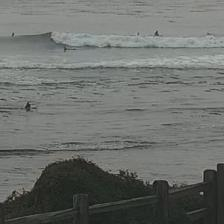surfer: (63, 47, 76, 52), (25, 102, 31, 108), (154, 30, 160, 36), (207, 32, 213, 35), (11, 32, 14, 36)
